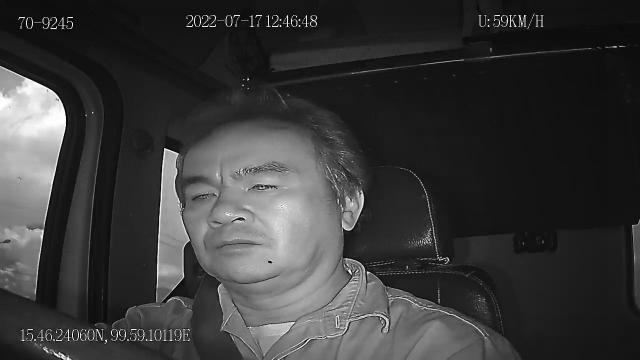SafeDriving: (241, 172, 288, 199), (184, 180, 222, 211)
Seatbelt: (190, 270, 247, 360)
